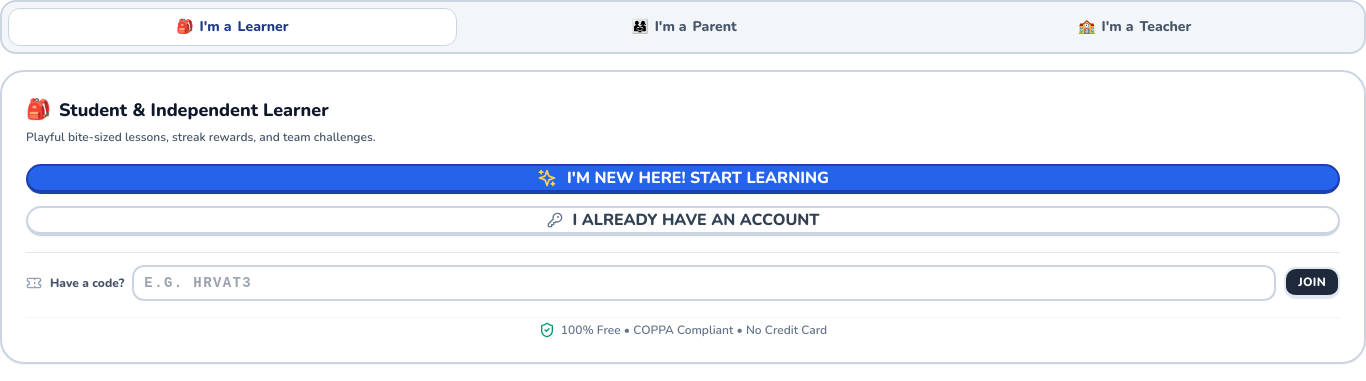
Test: <RoleOnboardingHero /> CR-075 Role-Aware Landing Page Hero Tests › Signed-Out Mode & Role Chooser › switches to Parent role view when Parent pill is clicked
Click the button "👨‍👩‍👧 I'm a Parent". click: (684, 27)
box: [461,9,907,45]
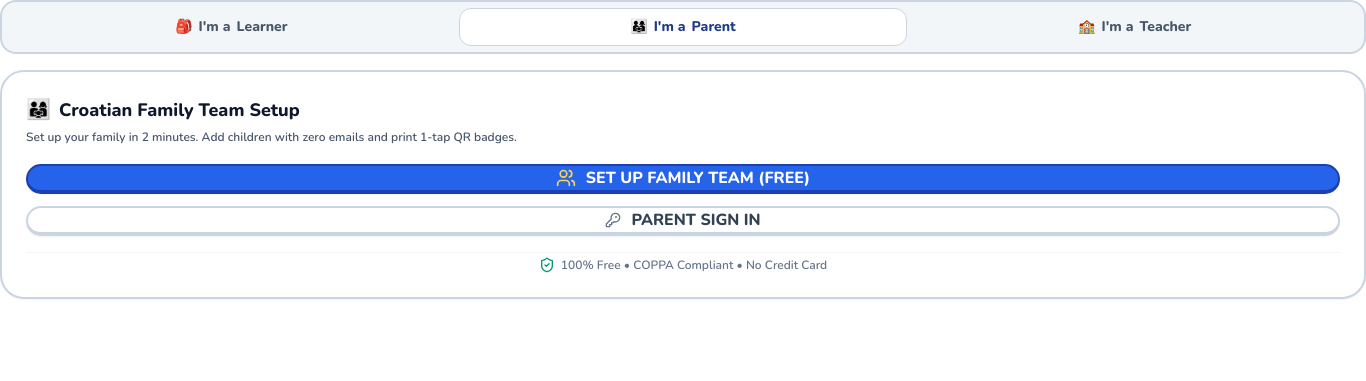
Check: the heading "Croatian Family Team Setup" is shown, box [59,96,300,124]
Check: the text "Set up your family in 2 minutes" is shown, box [26,129,517,145]
